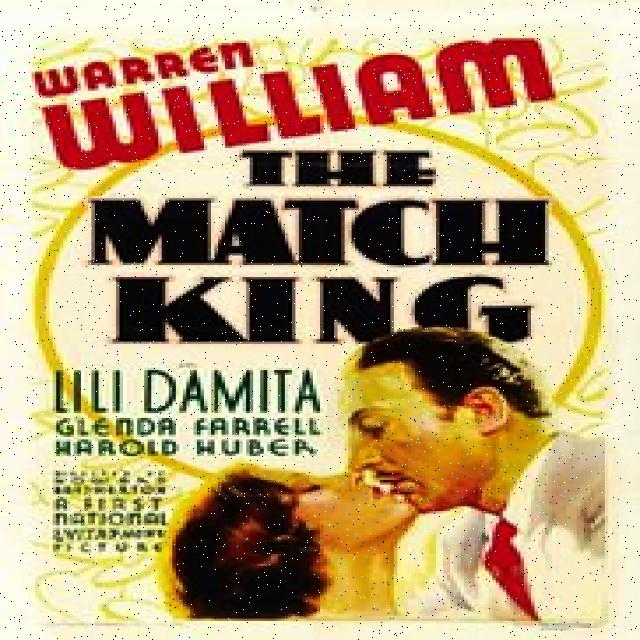movie-judul: (91, 143, 562, 344)
picture: (188, 332, 608, 627)
